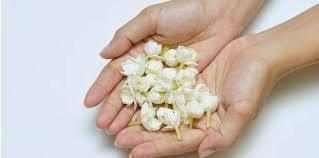jasmine: (110, 37, 228, 134)
